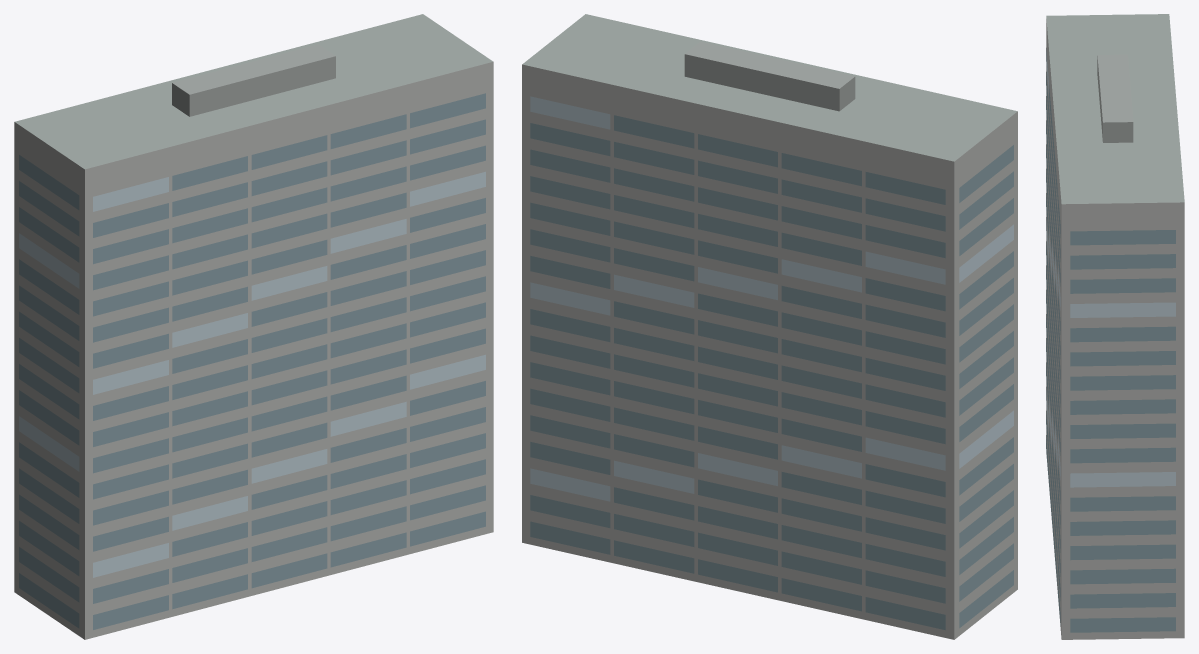
File: apt-a13377301.glb
3 views of the same model, side by side, from view 1: azimuth 30°, elevation 25°; view 2: azimuth 150°, elevation 25°; view 3: azimuth 270°, elevation 25° (orthographic). The views are drawn at different scales.
Parts seen in each view (by area): view 1: apt-a13377301; view 2: apt-a13377301; view 3: apt-a13377301.
Part boxes in pixels (x1,y1,x2,y2): apt-a13377301: [14, 14, 493, 639]; apt-a13377301: [522, 14, 1017, 639]; apt-a13377301: [1046, 14, 1184, 639].
Bounding box in the file's own units: 42.95 × 48 × 13.24.
